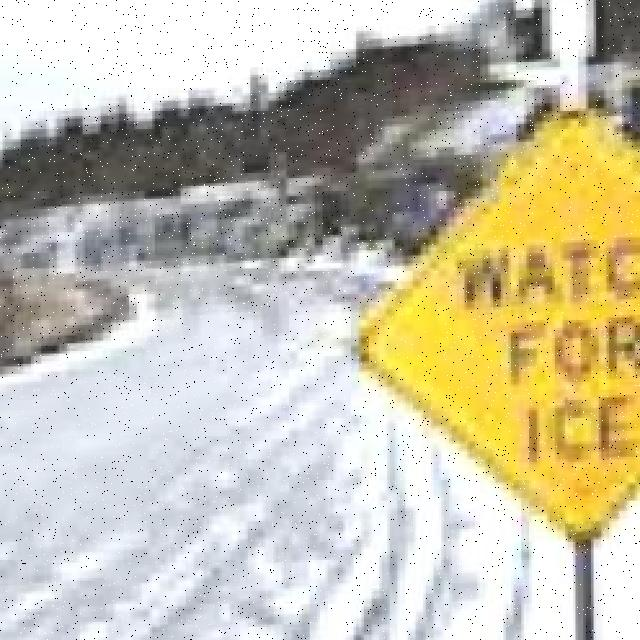ice-road: (0, 270, 568, 640)
